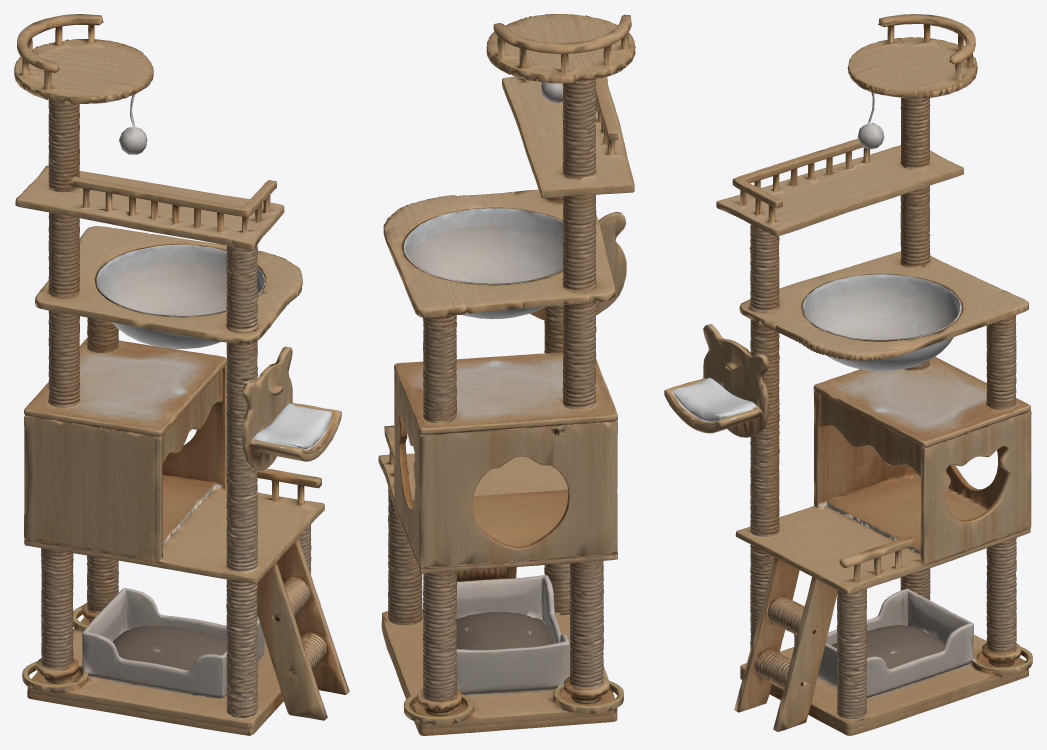
File: CatClimber.fbx
The picture shows the model from 3 angles, left to right: view 1: azimuth 30°, elevation 25°; view 2: azimuth 150°, elevation 25°; view 3: azimuth 270°, elevation 25°; orthographic projection. The views are drawn at different scales.
Visible parts, largest first — view 1: tripo_node_162fd263; view 2: tripo_node_162fd263; view 3: tripo_node_162fd263.
Part boxes in pixels (left/top/right/bottom): tripo_node_162fd263: left=14, top=14, right=349, bottom=735; tripo_node_162fd263: left=378, top=14, right=635, bottom=735; tripo_node_162fd263: left=664, top=14, right=1032, bottom=735.
Bounding box in the file's own units: 43.44 × 54.06 × 97.76.
